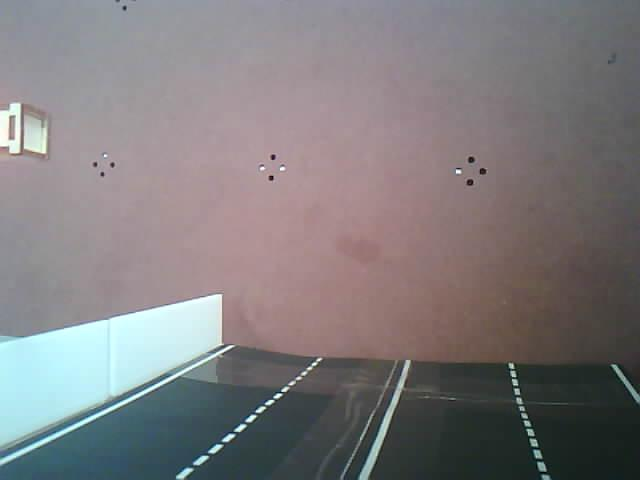no: (1, 91, 95, 219)
